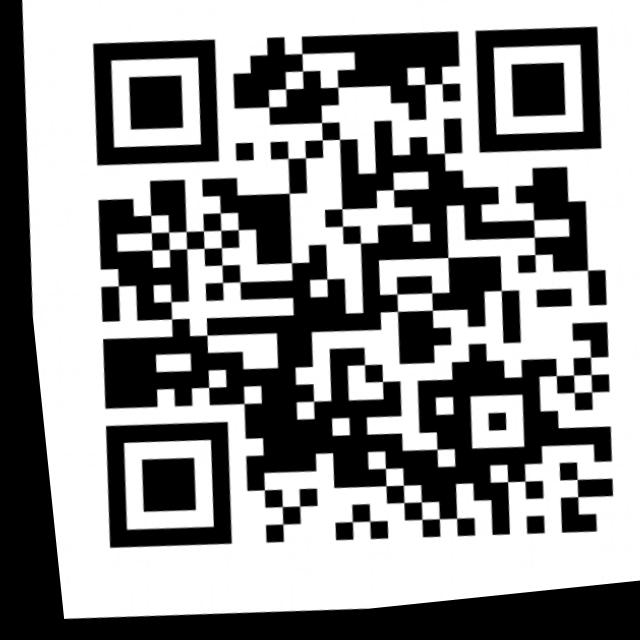QR_CODE: (38, 0, 640, 602)
